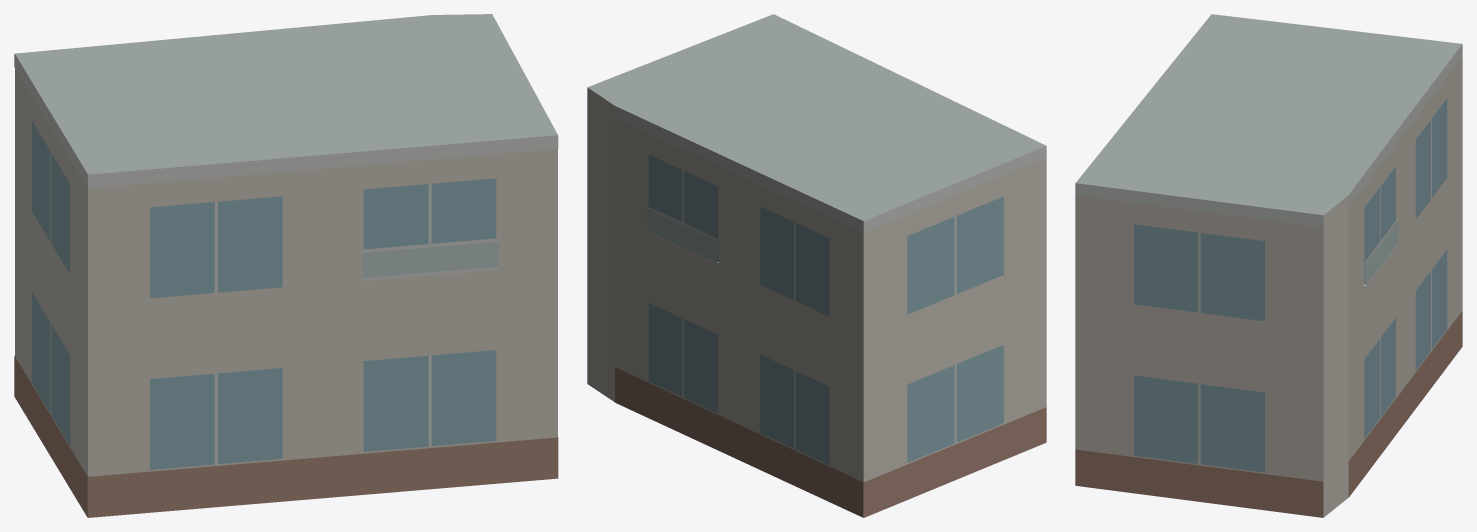
The model's file is survey-upis-32870598.glb.
3 renders of one model, left to right at view 1: azimuth 30°, elevation 25°; view 2: azimuth 150°, elevation 25°; view 3: azimuth 270°, elevation 25°, orthographic. The views are drawn at different scales.
Parts seen in each view (by area): view 1: survey-upis-32870598.tmp; view 2: survey-upis-32870598.tmp; view 3: survey-upis-32870598.tmp.
Part boxes in pixels (left/top/right/bottom): survey-upis-32870598.tmp: left=14, top=14, right=558, bottom=517; survey-upis-32870598.tmp: left=587, top=14, right=1046, bottom=517; survey-upis-32870598.tmp: left=1075, top=14, right=1462, bottom=517.
Size of the model in its own units: 8.71 by 6.1 by 7.08.
